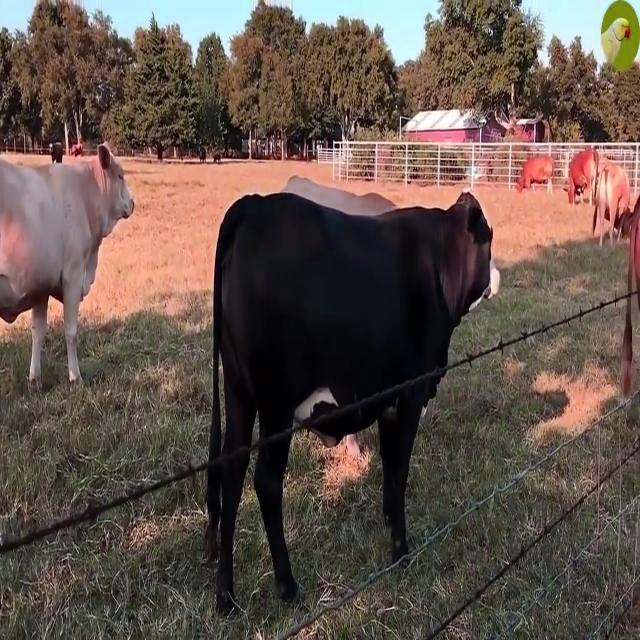cow: (206, 192, 492, 614), (0, 145, 134, 387)
